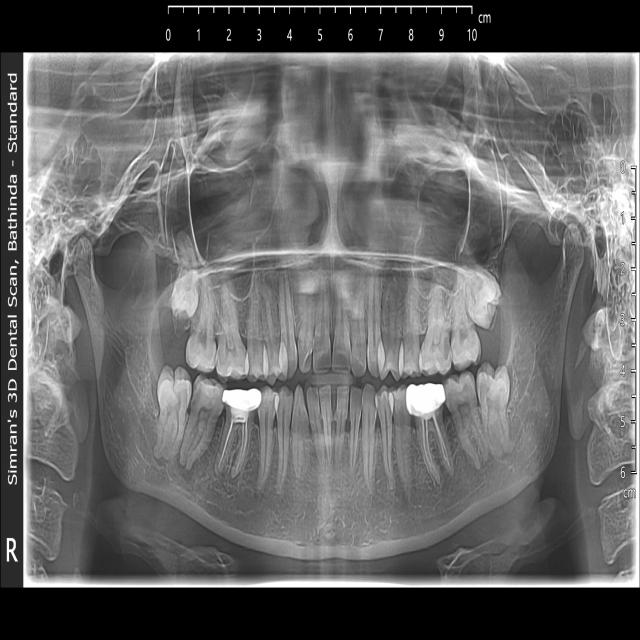Caries: (419, 325, 452, 372), (188, 375, 225, 415)
Filling: (405, 383, 447, 423), (193, 382, 223, 419), (224, 389, 260, 409)
Root Canal Treatment: (407, 383, 455, 487), (215, 388, 261, 481)
impacted tooth: (153, 366, 191, 461), (477, 362, 509, 459), (169, 231, 197, 320), (467, 264, 501, 327)
